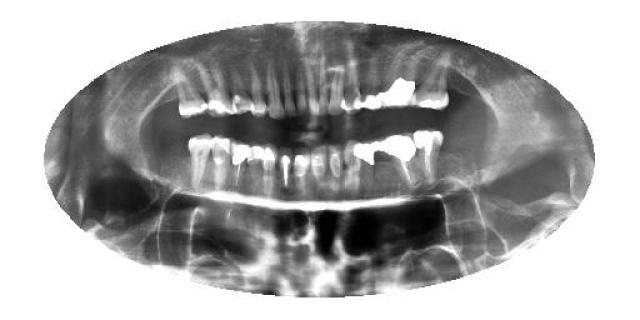Fillings: (380, 51, 420, 110), (198, 60, 236, 120), (365, 45, 381, 110), (360, 140, 374, 191), (370, 134, 394, 162), (246, 142, 264, 170)
Implant: (415, 127, 444, 185), (392, 132, 413, 186), (230, 142, 249, 192)
